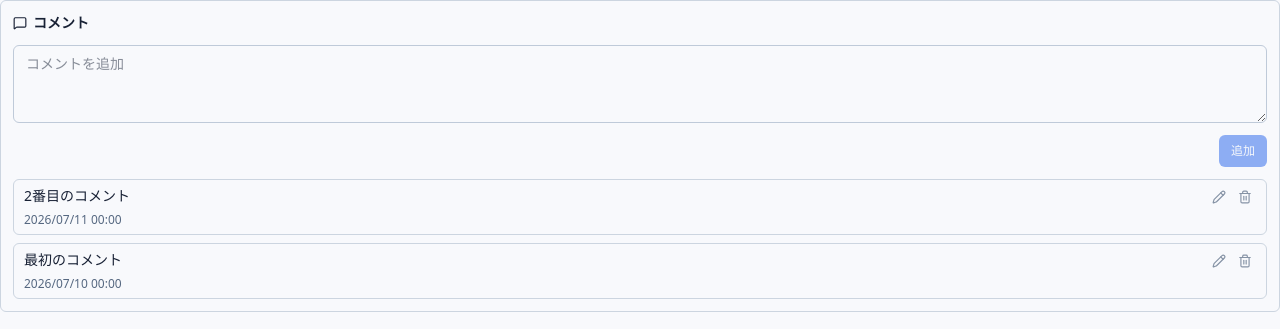
Scenario: TaskComments › 削除処理中はコメント本文をクリックしても編集を開始しない
This screenshot has width=1280, height=329.
Click the 1st button named "コメントを削除".
click(1245, 197)  # box [1234, 186, 1256, 208]
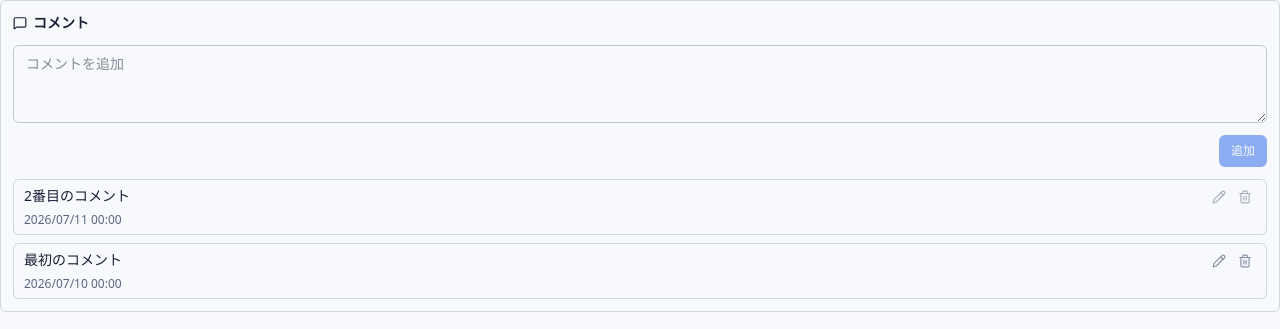
Click the button "2番目のコメント".
click(77, 196)  # box [24, 186, 1200, 206]
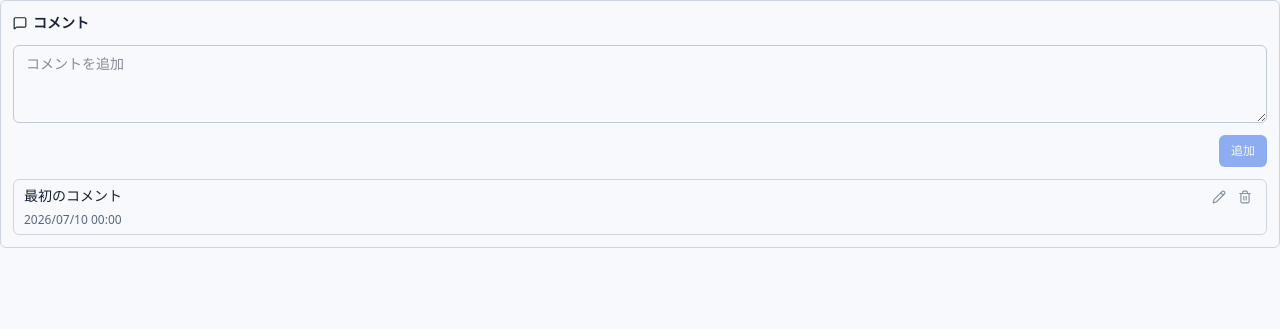
Expected: the button "2番目のコメント" is gone
